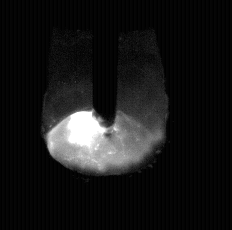arame: (94, 0, 117, 126)
poca: (40, 0, 166, 230)
